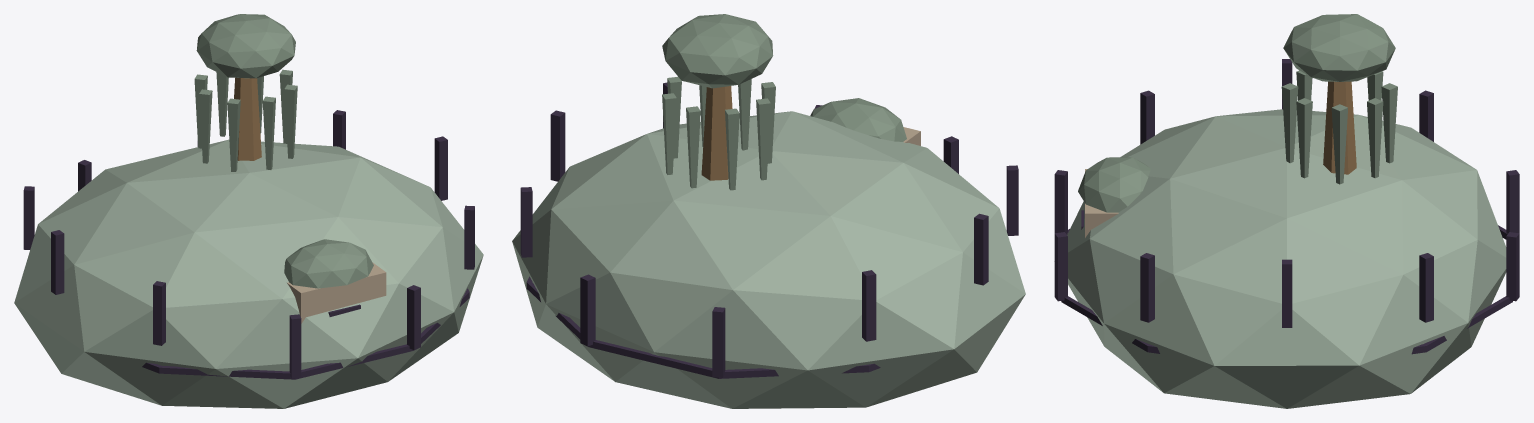
File: crypt-hill.glb
3 renders of one model, left to right at view 1: azimuth 30°, elevation 25°; view 2: azimuth 150°, elevation 25°; view 3: azimuth 270°, elevation 25°, orthographic. The views are drawn at different scales.
Visible parts, largest first — view 1: graveyard-crypt-hill; view 2: graveyard-crypt-hill; view 3: graveyard-crypt-hill.
Part boxes in pixels (x1,y1,x2,y2): graveyard-crypt-hill: [14, 14, 483, 408]; graveyard-crypt-hill: [512, 14, 1025, 408]; graveyard-crypt-hill: [1054, 14, 1519, 408].
Bounding box in the file's own units: 2.83 × 1.94 × 2.64.
